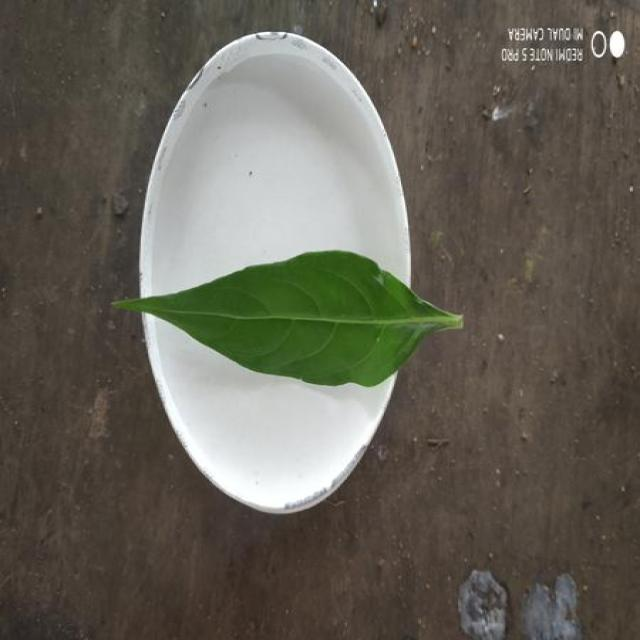Nelavembu: (115, 252, 463, 386)
